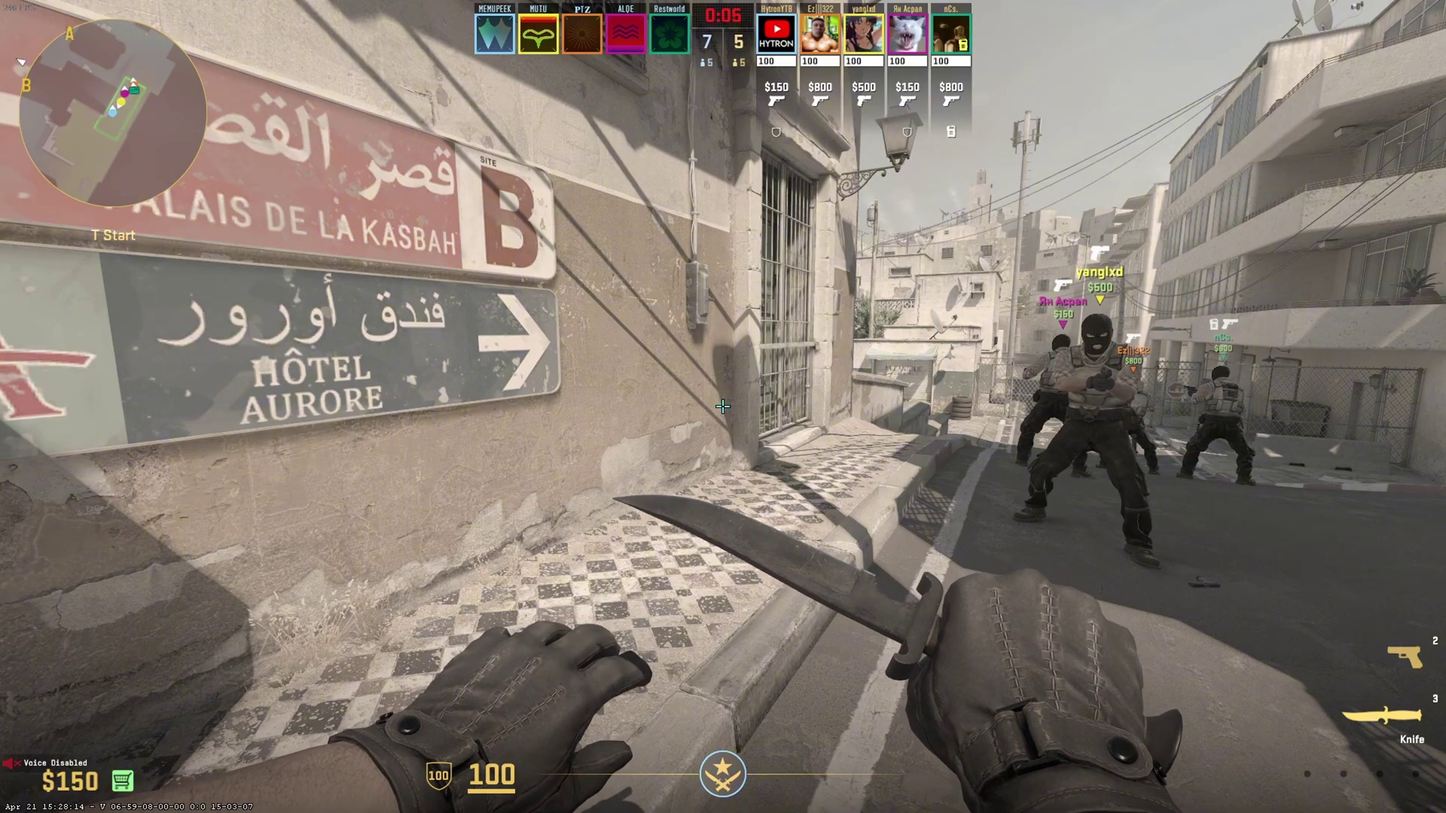Terrorist: (1051, 318, 1140, 564), (1013, 327, 1085, 472), (1176, 358, 1255, 488)
